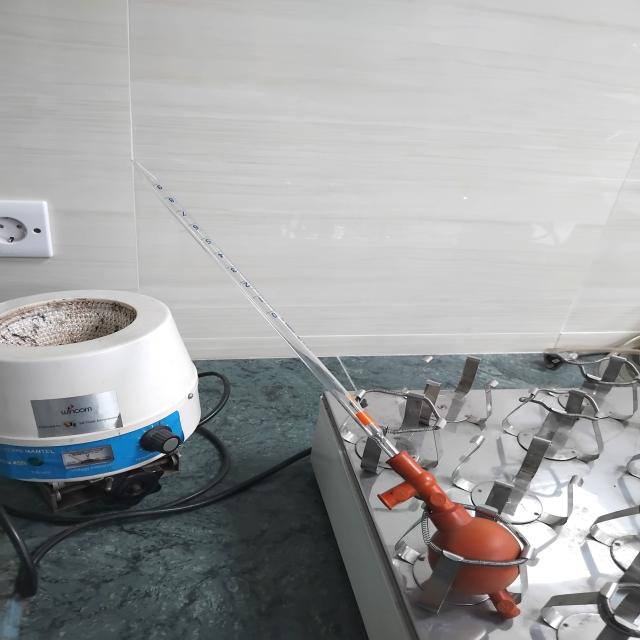Volumetric_Pipet: (94, 132, 602, 639)
